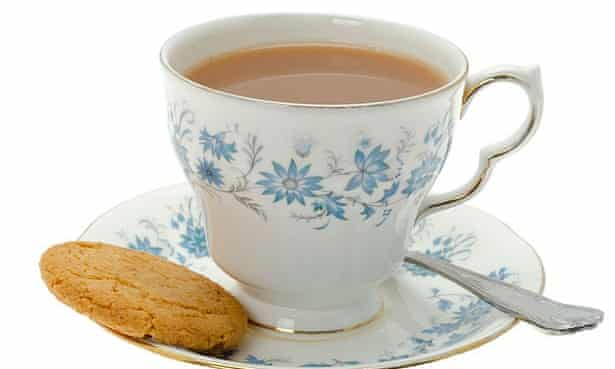cup: (159, 11, 547, 296)
